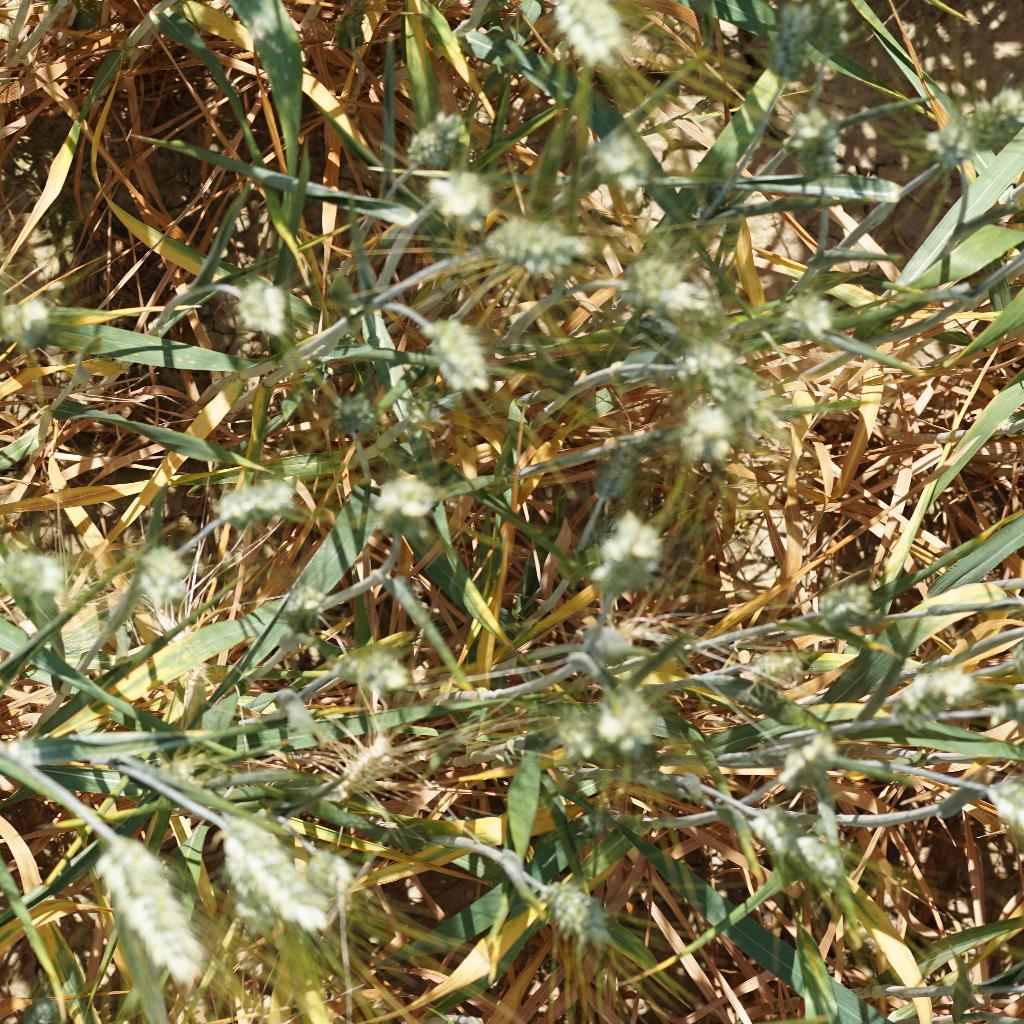0-0: (89, 822, 205, 983), (198, 808, 325, 938), (519, 848, 624, 944), (616, 240, 724, 331), (686, 342, 795, 428), (742, 811, 854, 889), (216, 458, 313, 542), (411, 314, 507, 396), (474, 217, 594, 281), (890, 653, 986, 731), (586, 500, 656, 605), (314, 627, 421, 695), (216, 266, 307, 343), (574, 111, 671, 183), (520, 691, 608, 769), (391, 107, 485, 175), (661, 393, 744, 470), (773, 277, 856, 350), (373, 458, 448, 537), (337, 728, 411, 804), (594, 687, 675, 754), (959, 68, 1024, 149), (548, 0, 635, 60), (777, 105, 845, 178), (141, 534, 198, 617), (766, 0, 817, 92), (579, 440, 650, 505), (381, 382, 445, 451), (414, 163, 492, 219), (796, 579, 879, 631), (806, 0, 860, 74), (780, 720, 841, 785), (0, 542, 68, 597), (302, 841, 370, 893), (971, 769, 1024, 834), (0, 286, 63, 340), (742, 646, 823, 688), (570, 613, 639, 661), (332, 385, 380, 438), (153, 753, 202, 787)
